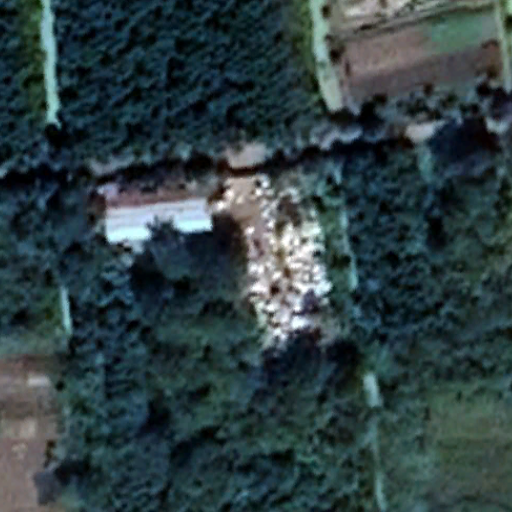msw: (230, 186, 333, 341)
